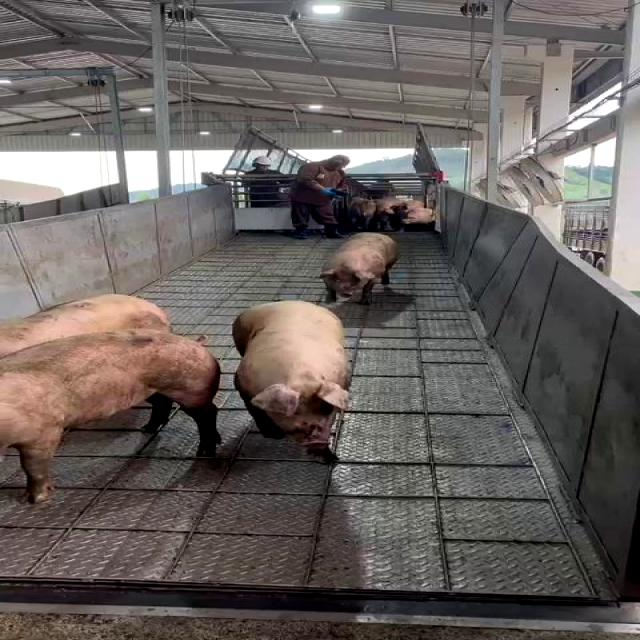pig: (0, 329, 220, 502), (234, 301, 348, 461), (0, 294, 172, 356), (321, 232, 399, 304)
